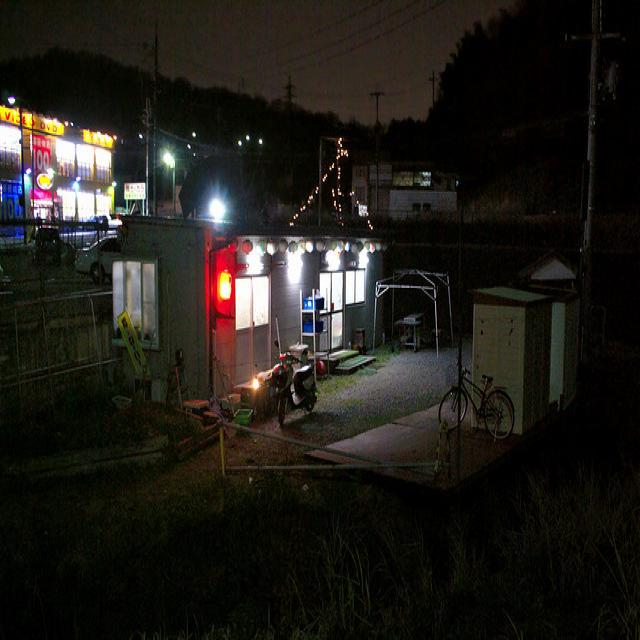motor: (269, 337, 318, 425)
